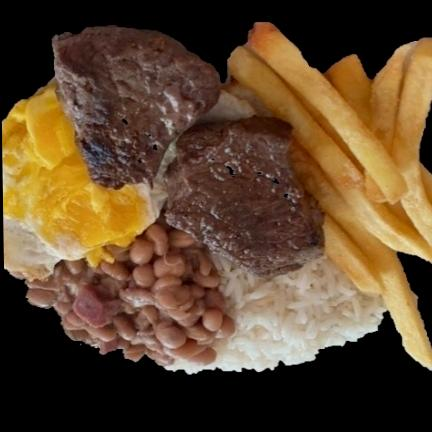beans: (25, 223, 234, 365)
egg: (2, 81, 160, 276)
meat: (52, 24, 323, 276)
potato: (227, 22, 431, 369)
rice: (206, 255, 384, 370)
